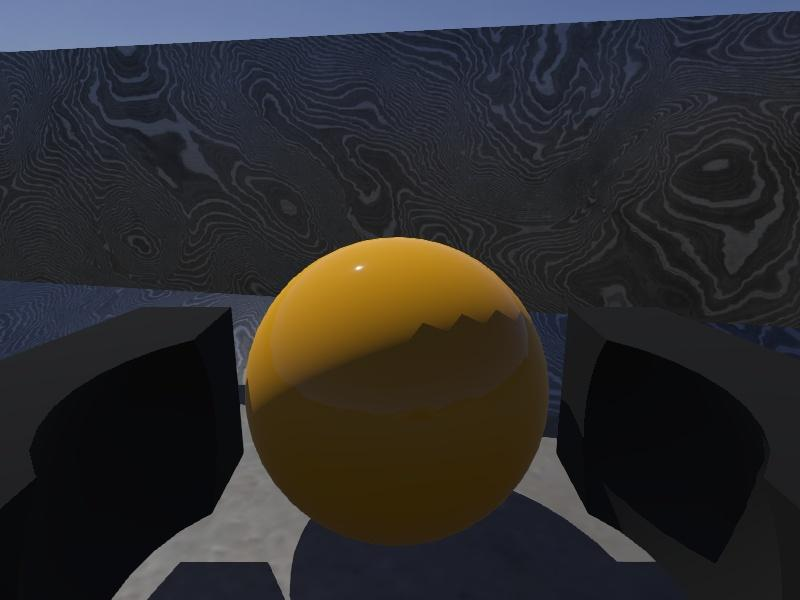orange ball: (244, 236, 551, 549)
